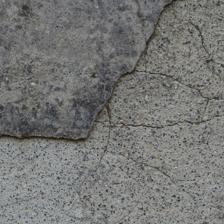Crack: (0, 32, 104, 144), (0, 23, 83, 112), (75, 51, 145, 103), (20, 22, 144, 47), (113, 24, 162, 45)
